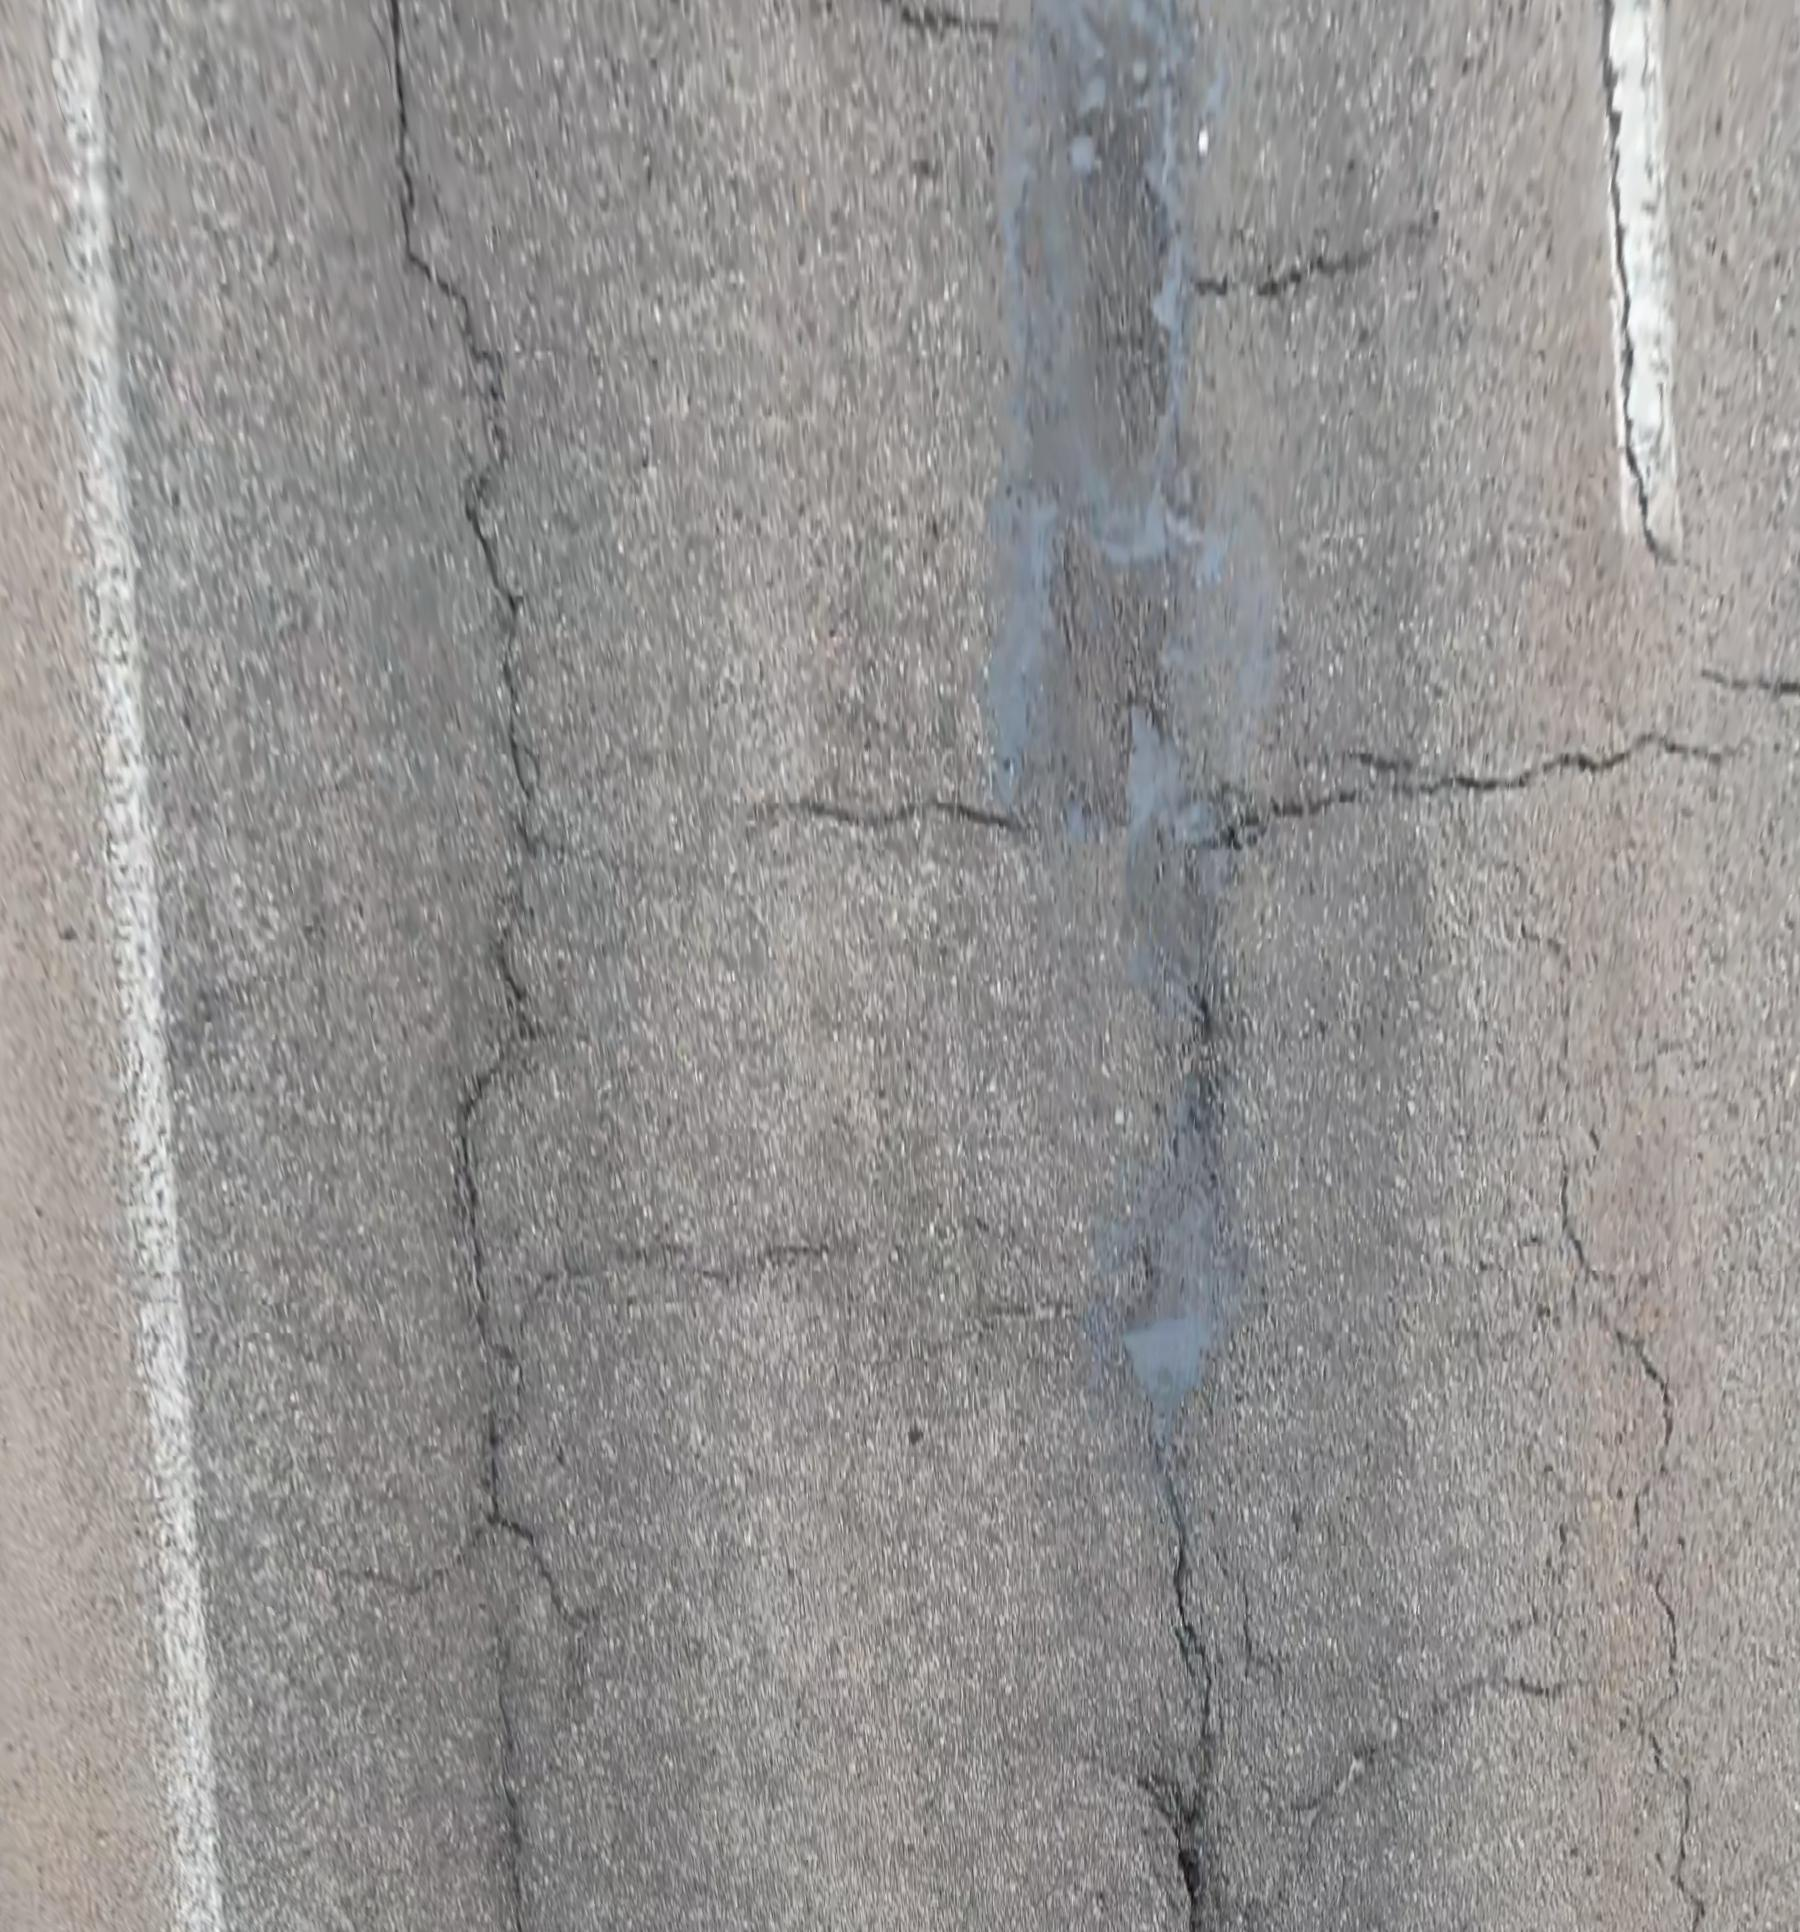pothole_patch_good: (1101, 1071, 1237, 1408), (1083, 748, 1205, 988)
